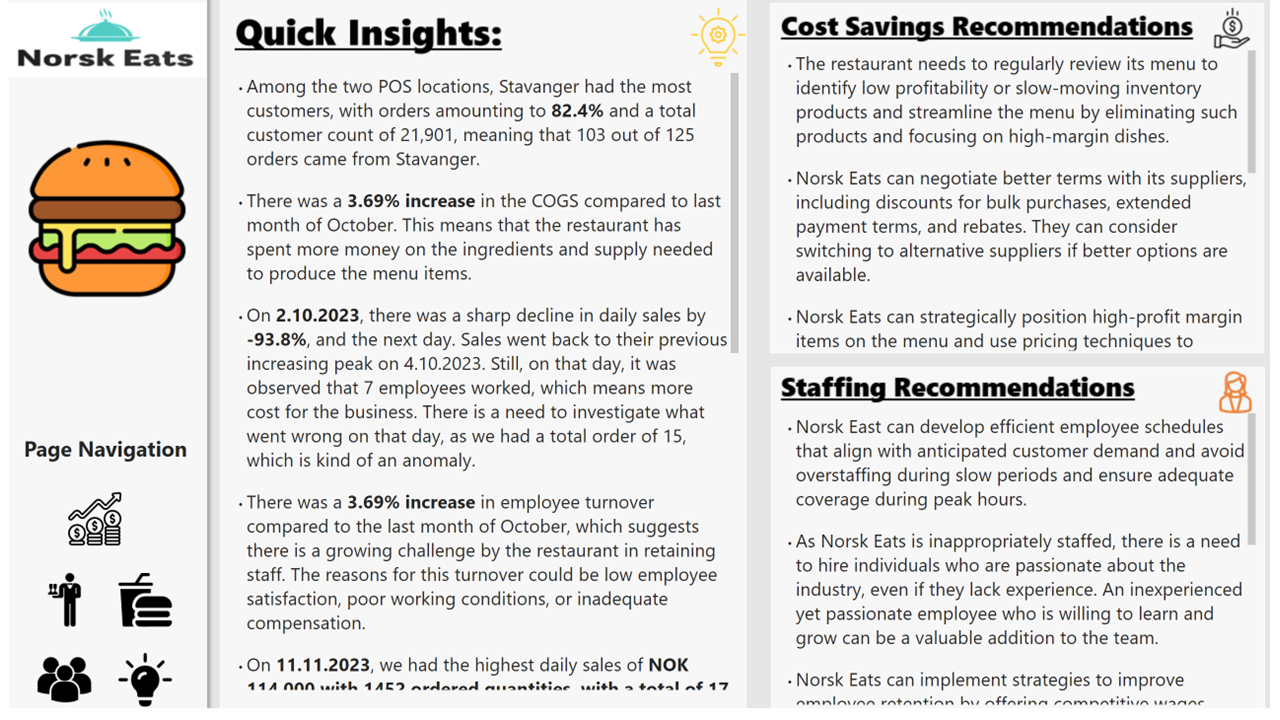

The dashboard page shown, as its layout file describes it:
{"tool":"powerbi","page":{"name":"Quick Insights & Recommendations 📝","canvas":[1280,720],"ordinal":4},"visuals":[{"type":"textbox","box":[218.6,68.6,527.1,635.7],"z":0},{"type":"textbox","box":[1.4,435.1,195.6,41.1],"z":1000},{"type":"actionButton","box":[56.7,494.6,62,62],"z":2000},{"type":"actionButton","box":[25.5,576.9,62.4,62.4],"z":3000},{"type":"actionButton","box":[107.7,576.9,62.4,62.4],"z":4000},{"type":"actionButton","box":[25.5,657.6,62.4,62.4],"z":5000},{"type":"actionButton","box":[107.7,657.6,62.4,62.4],"z":6000},{"type":"textbox","box":[775.7,414.3,494.3,305.7],"z":7000},{"type":"textbox","box":[775.7,45.7,494.3,314.3],"z":8000}]}

Visuals, with their boxes in screenshot pixels (x1, y1, x2, y2), scaled from the page's 1280x720 canvas onto the 1280x720 screenshot:
textbox: 219/69/746/704
textbox: 1/435/197/476
actionButton: 57/495/119/557
actionButton: 26/577/88/639
actionButton: 108/577/170/639
actionButton: 26/658/88/719
actionButton: 108/658/170/719
textbox: 776/414/1270/719
textbox: 776/46/1270/360
